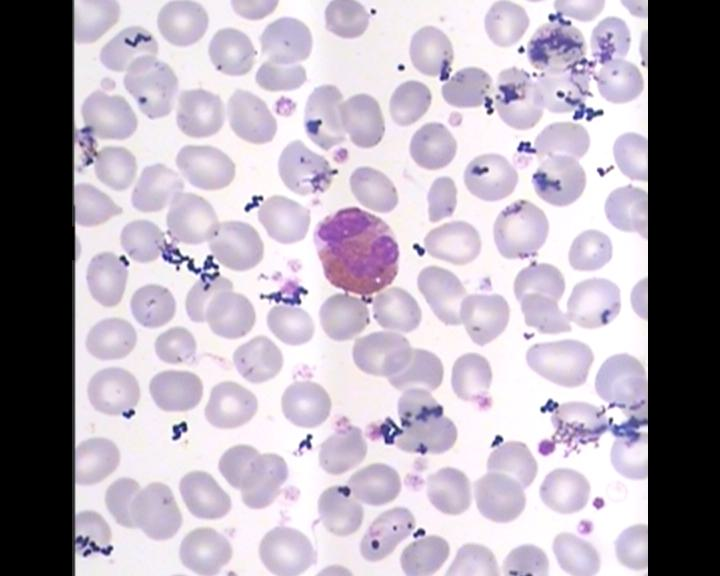eosi: (308, 200, 400, 296)
